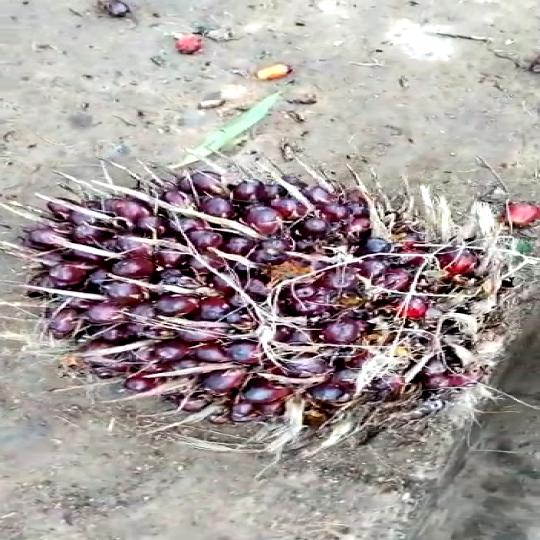kurang masak: (21, 154, 534, 449)
